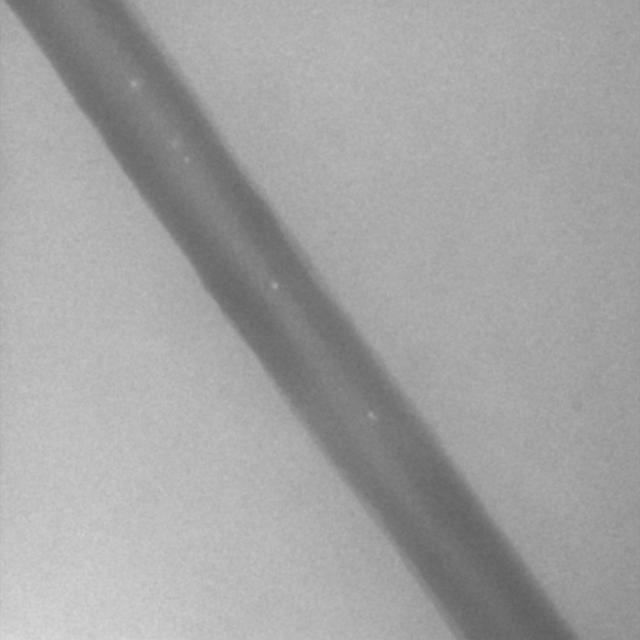air hole: (365, 407, 378, 423), (128, 77, 139, 90), (269, 278, 279, 291)
